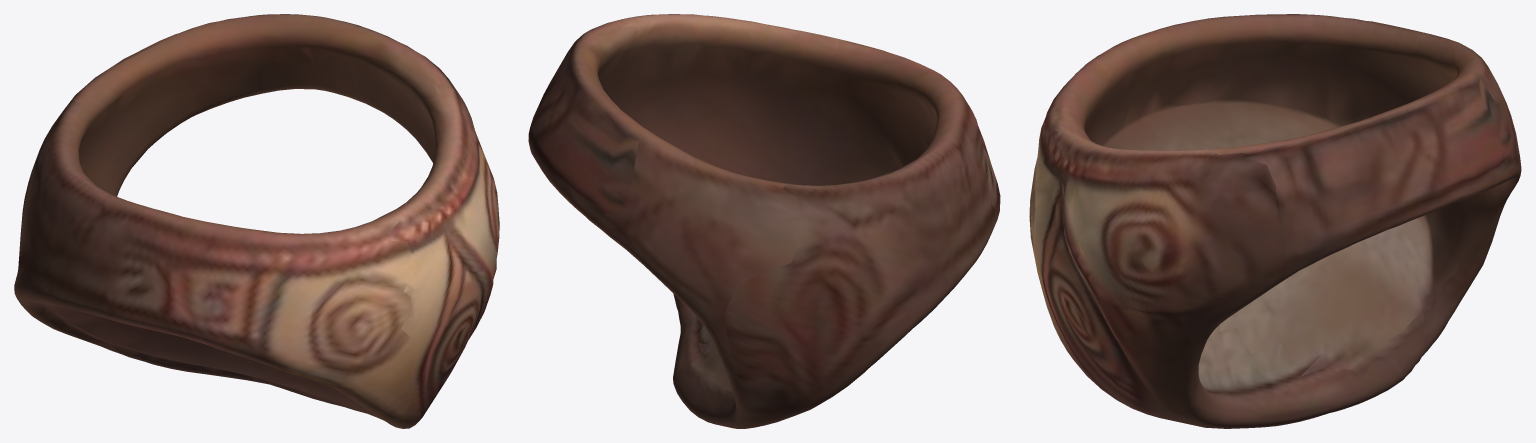
The model's file is v05_panela_barro.glb.
3 views of the same model, side by side, from view 1: azimuth 30°, elevation 25°; view 2: azimuth 150°, elevation 25°; view 3: azimuth 270°, elevation 25° (orthographic). The views are drawn at different scales.
Visible parts, largest first — view 1: v05_panela_barro; view 2: v05_panela_barro; view 3: v05_panela_barro.
Part boxes in pixels (<box>): v05_panela_barro: <box>14,14,499,428</box>; v05_panela_barro: <box>528,14,1000,428</box>; v05_panela_barro: <box>1029,14,1521,428</box>.
Bounding box in the file's own units: 0.5489 × 0.4086 × 0.5336.
Materials: 1 (1 with a texture image).
